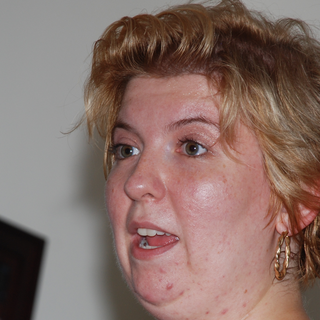eye: (172, 134, 217, 162), (107, 138, 146, 164)
